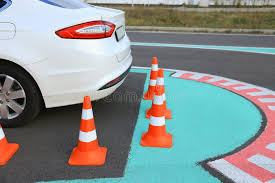car: (1, 1, 133, 128)
cone: (69, 96, 106, 166), (140, 91, 173, 147), (144, 70, 173, 120), (143, 57, 166, 100), (1, 118, 20, 166)
